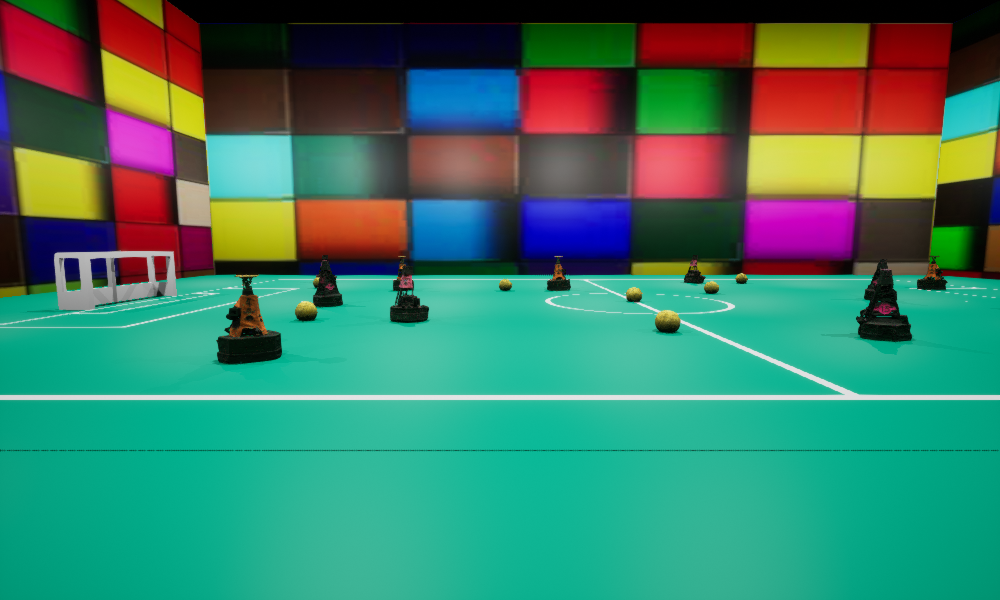b: (655, 310, 679, 332), (295, 301, 317, 320), (626, 287, 641, 301), (704, 281, 718, 293), (499, 279, 511, 290), (735, 273, 747, 282), (313, 277, 319, 287)
o: (216, 275, 281, 363), (917, 256, 947, 289), (547, 256, 570, 290), (393, 256, 413, 290)
p1: (856, 269, 911, 341), (313, 260, 342, 306), (864, 259, 896, 299)
p2: (390, 266, 428, 322), (684, 255, 705, 283), (316, 255, 336, 281)
